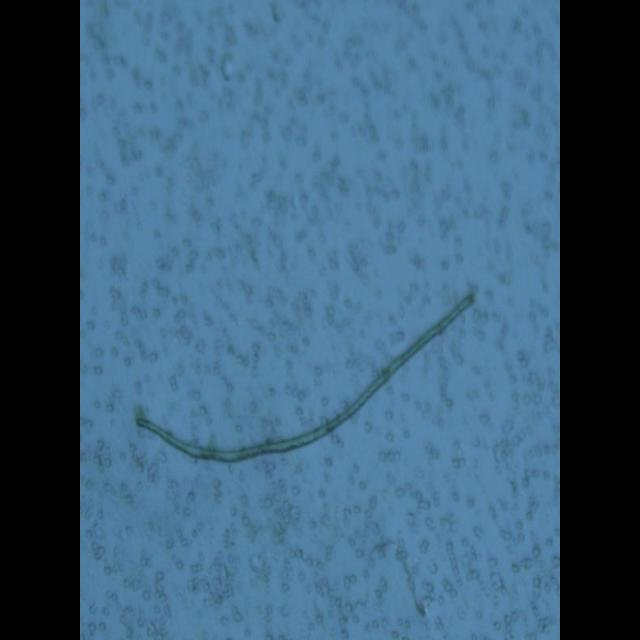Fibre: (134, 290, 476, 466)
